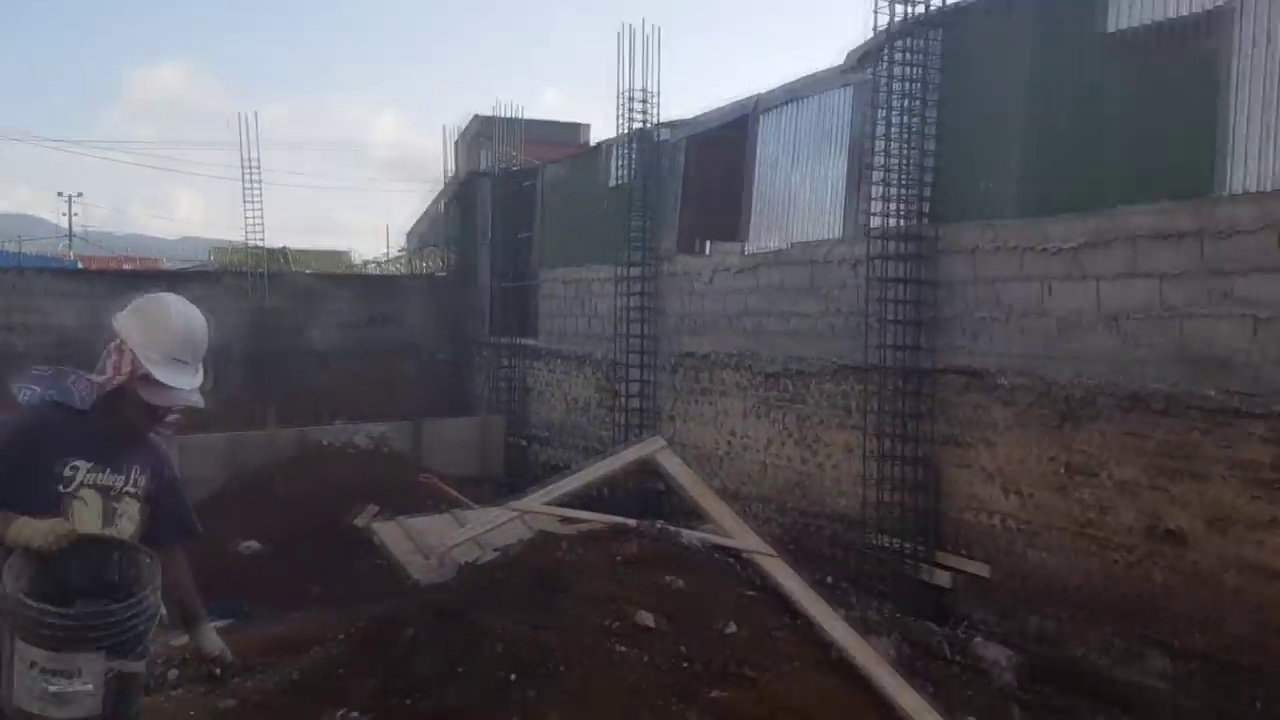helmet: (105, 295, 207, 383)
helmet-on: (82, 297, 218, 431)
person: (11, 297, 237, 720)
